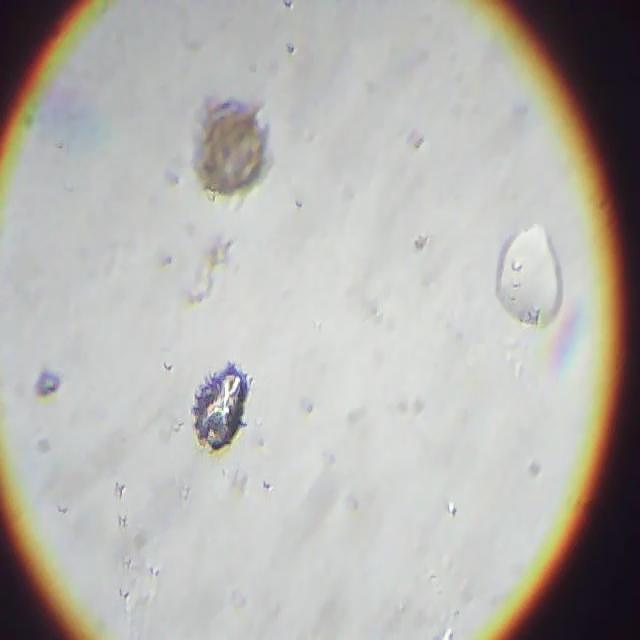alexandrium: (193, 85, 281, 198)
alexandrium minutum: (193, 358, 267, 455)
